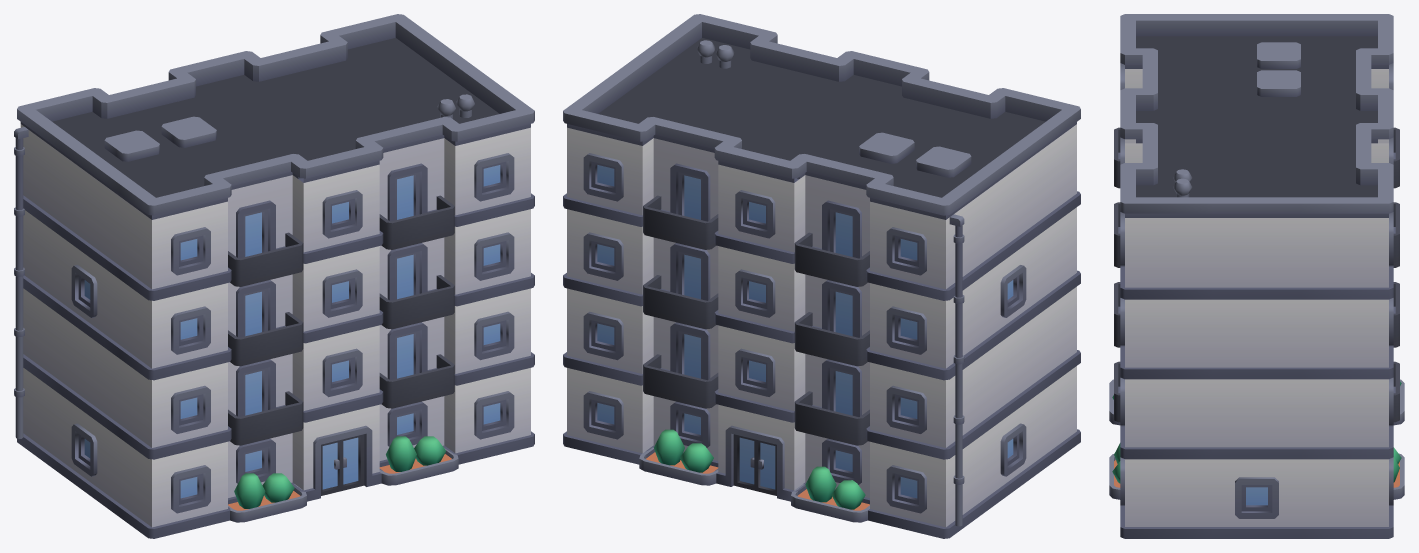
The model's file is commercial-building-j.glb.
The picture shows the model from 3 angles, left to right: view 1: azimuth 30°, elevation 25°; view 2: azimuth 150°, elevation 25°; view 3: azimuth 270°, elevation 25°; orthographic projection.
Visible parts, largest first — view 1: building-j; view 2: building-j; view 3: building-j.
Part boxes in pixels (x1,y1,x2,y2): building-j: (14, 14, 534, 538); building-j: (563, 14, 1080, 538); building-j: (1109, 14, 1404, 538).
Size of the model in its own units: 2.08 by 1.69 by 1.34.
Materials: 1 (1 with a texture image).
